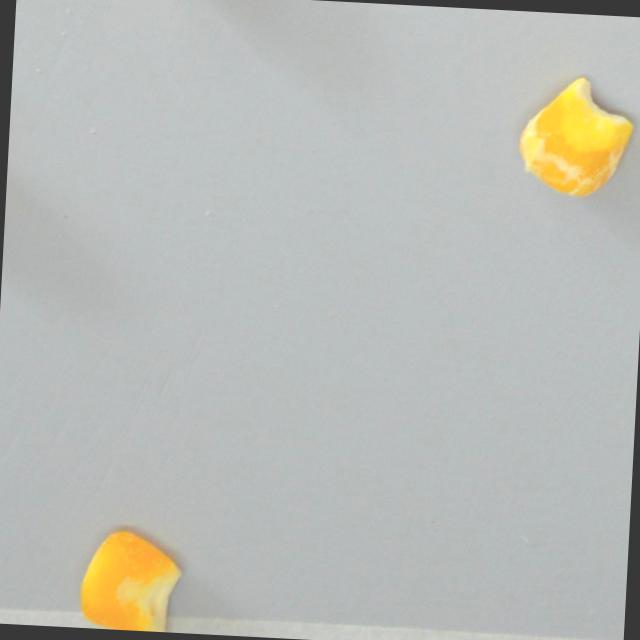no_canjicado: (77, 527, 184, 631)
pelicula: (514, 73, 637, 202)
